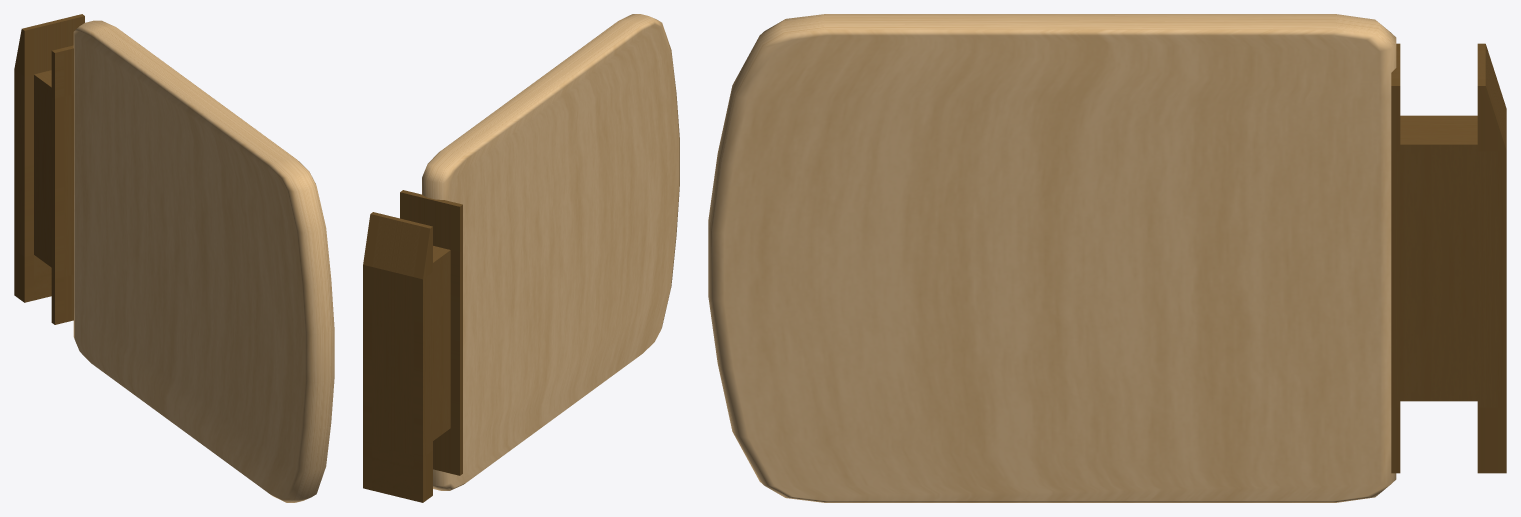
File: hontate.fbx
The picture shows the model from 3 angles, left to right: view 1: azimuth 30°, elevation 25°; view 2: azimuth 150°, elevation 25°; view 3: azimuth 270°, elevation 25°; orthographic projection. The views are drawn at different scales.
Visible parts, largest first — view 1: hontate; view 2: hontate; view 3: hontate.
Part boxes in pixels (<box>): hontate: <box>14,14,334,502</box>; hontate: <box>363,14,679,502</box>; hontate: <box>708,14,1506,502</box>.
Size of the model in its own units: 42.81 by 226 by 343.
Materials: 2 (2 with a texture image).
